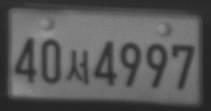0: (41, 38, 62, 83)
4: (13, 36, 38, 83), (93, 40, 118, 86)
7: (171, 43, 195, 89)
9: (146, 42, 168, 89), (120, 42, 142, 86)
서: (66, 48, 89, 84)
